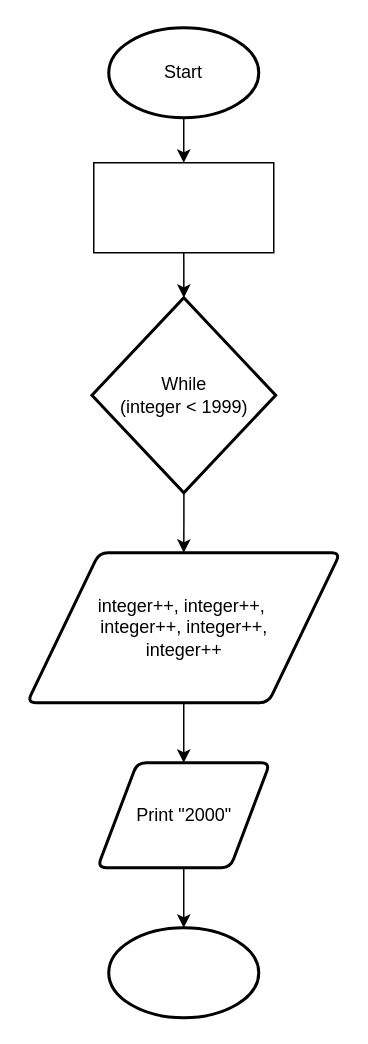
Image size: 368x1044. Some labels were removed from this diagram. The shapes that lost their labels are listed below. From the top down, each one's centre as x and y in pixels, then its label:
pixel 183 207: int integer = 999
pixel 183 972: Stop
